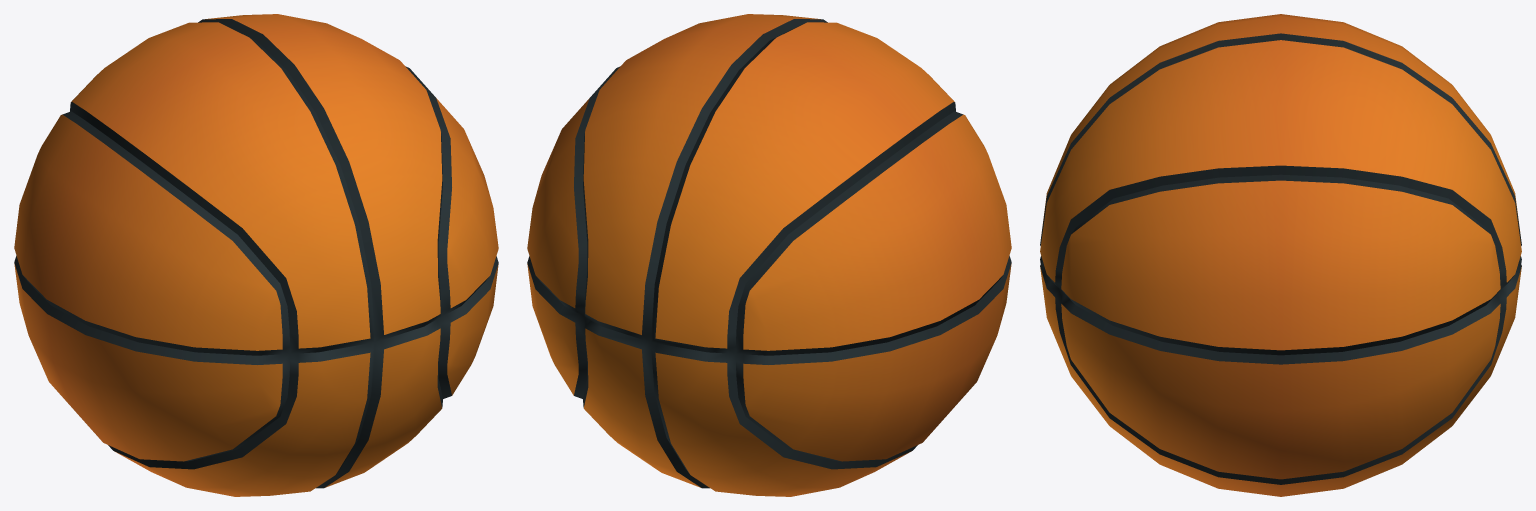
Rendered from basketball.glb.
3 renders of one model, left to right at view 1: azimuth 30°, elevation 25°; view 2: azimuth 150°, elevation 25°; view 3: azimuth 270°, elevation 25°, orthographic.
Parts seen in each view (by area): view 1: basketball; view 2: basketball; view 3: basketball.
Part boxes in pixels (x1,y1,x2,y2): basketball: [14, 14, 498, 496]; basketball: [527, 14, 1011, 496]; basketball: [1040, 14, 1521, 496].
Bounding box in the file's own units: 0.7383 × 0.7383 × 0.737.
1 material, 1 textured.
